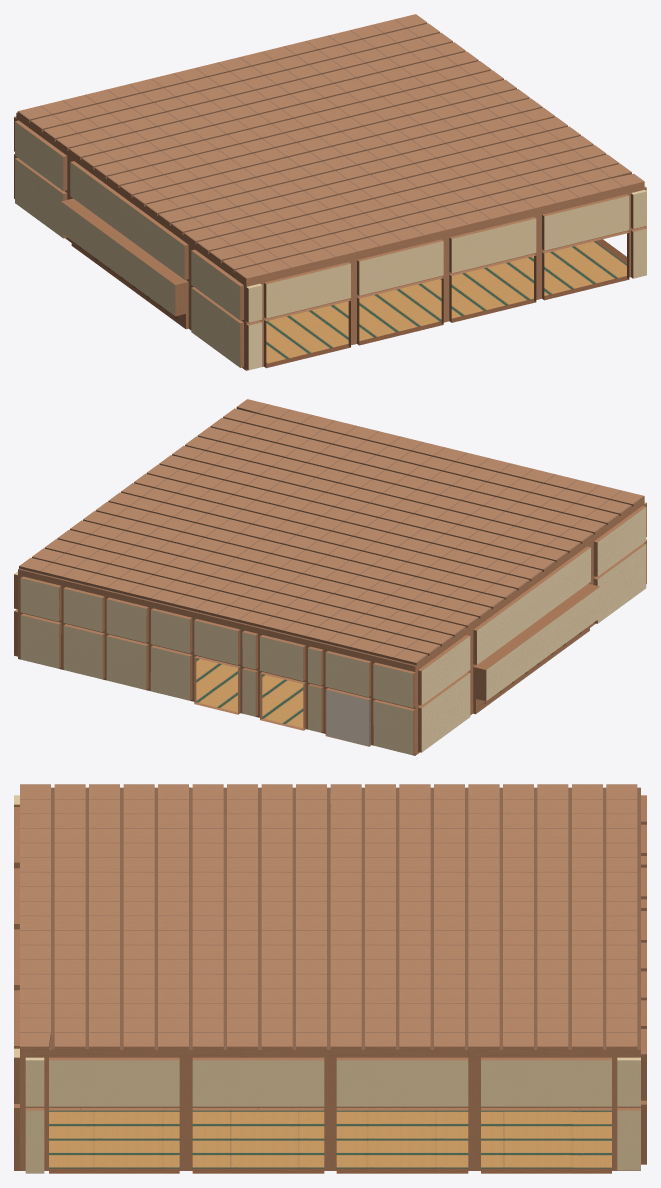
The model's file is map_remake01.fbx.
3 renders of one model, top to bottom at view 1: azimuth 30°, elevation 25°; view 2: azimuth 150°, elevation 25°; view 3: azimuth 270°, elevation 25°, orthographic. The views are drawn at different scales.
Parts seen in each view (by area): view 1: Map_frameWork; view 2: Map_frameWork, husuma1, husuma2; view 3: Map_frameWork.
Boxes of the visible parts, x1,y1,x2,y2 form: Map_frameWork: (14,14,646,370); Map_frameWork: (14,399,646,755); husuma1: (347,695,369,746); husuma2: (326,689,347,740); Map_frameWork: (14,784,646,1173).
Bounding box in the file's own units: 1668 × 354 × 1631.
